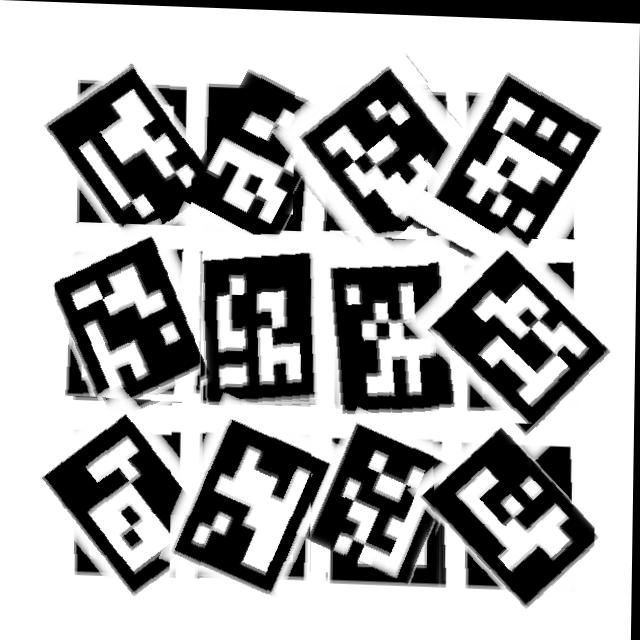aruco: (426, 30, 625, 286), (293, 47, 488, 264), (426, 232, 614, 448), (37, 393, 220, 605), (431, 417, 597, 621), (171, 400, 335, 600), (54, 221, 218, 419), (191, 46, 337, 263), (49, 61, 212, 244), (322, 231, 461, 432), (311, 410, 455, 574), (201, 231, 324, 409)
